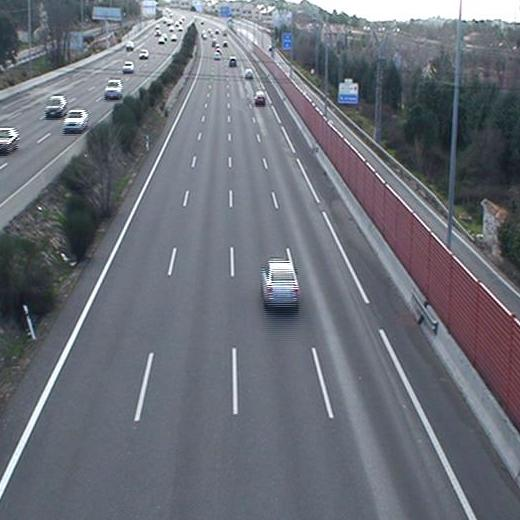car: (263, 260, 300, 306), (255, 90, 266, 105), (244, 69, 254, 79), (229, 56, 237, 68), (213, 52, 221, 60)
